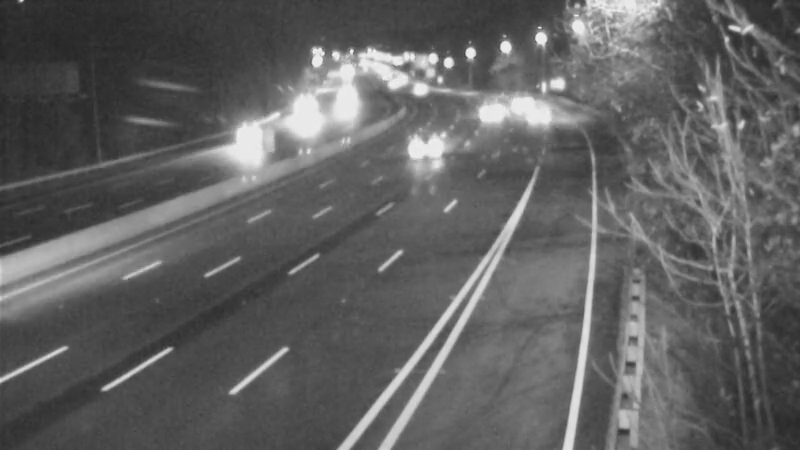vehicle: (393, 63, 443, 113), (495, 74, 545, 124), (508, 91, 558, 141), (464, 88, 514, 138), (409, 122, 459, 172), (221, 110, 271, 160), (282, 93, 332, 143), (316, 80, 366, 130)
